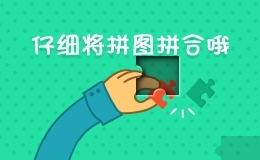target: (115, 36, 158, 76)
